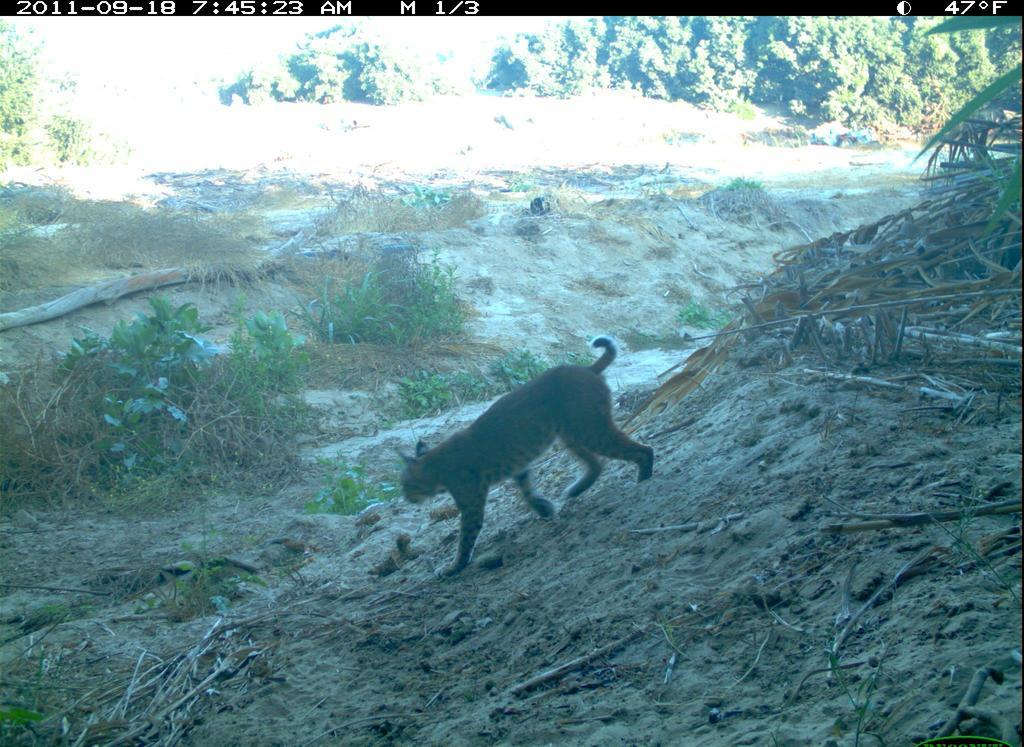bobcat: (387, 336, 662, 585)
